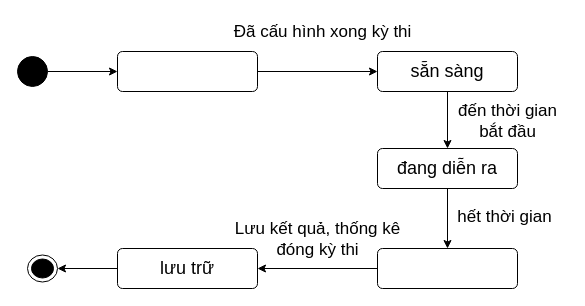
This 585x306 diagram has some shape labels left out. The shapes that lost their labels are listed below. From the top down, each one's centre as x and y in pixels, then its label:
the point at 187,71: chờ khởi tạo
the point at 447,268: đã kết thúc
